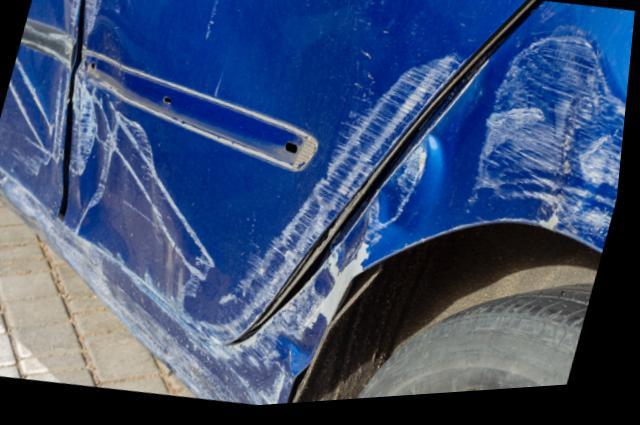dent: (366, 41, 629, 275), (66, 25, 186, 311)
rub: (117, 52, 468, 349)
scratch: (0, 164, 375, 409), (10, 0, 82, 177), (86, 0, 105, 39)
